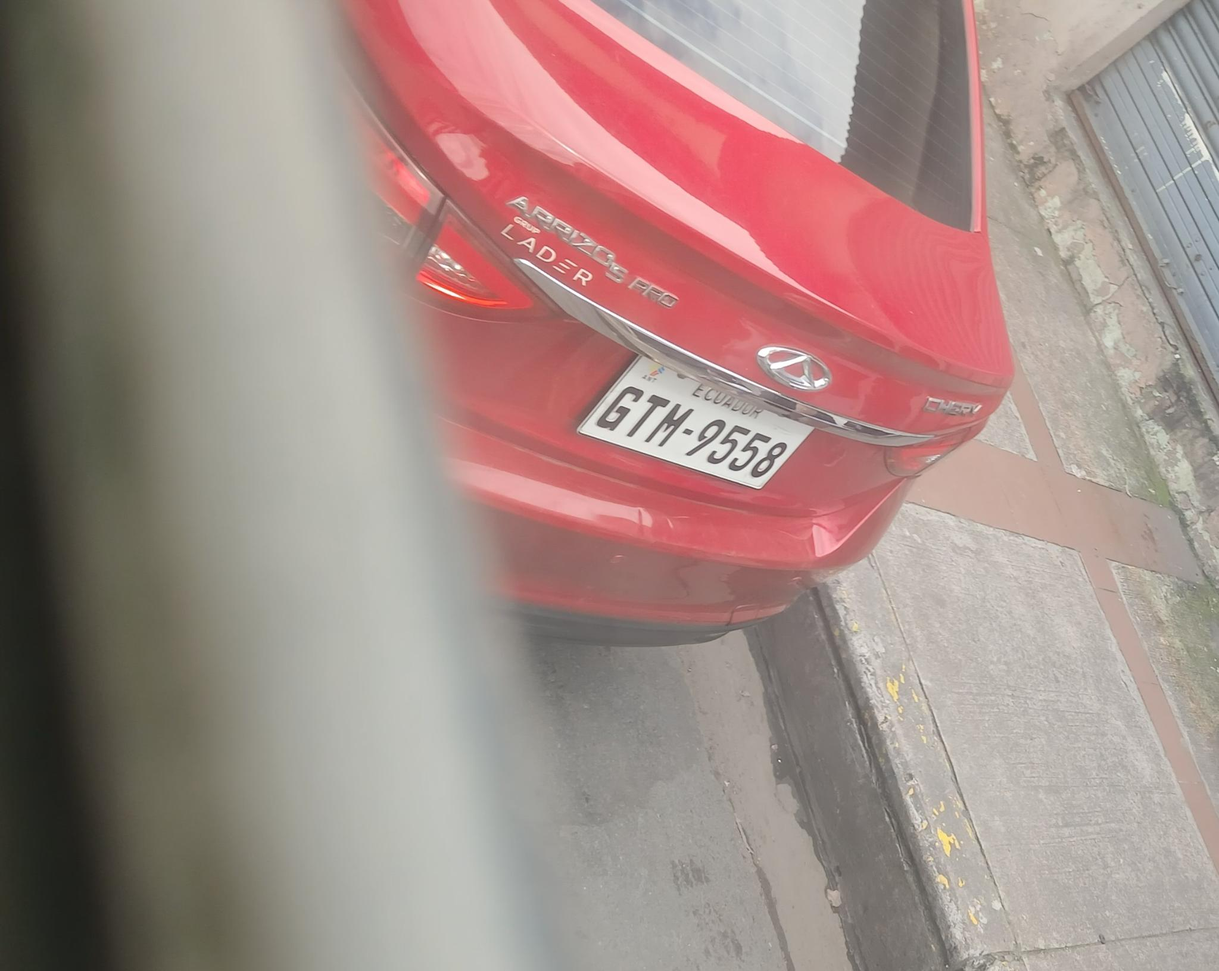license_plate: (578, 357, 809, 492)
